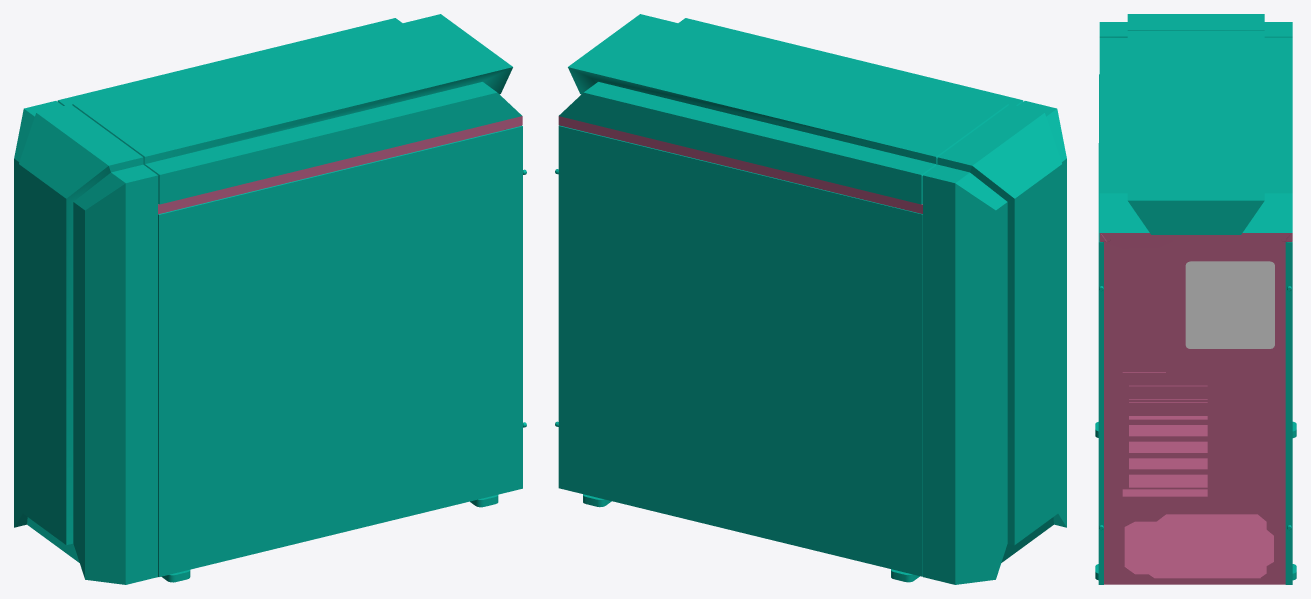
File: pc_case_e_cover.fbx
The picture shows the model from 3 angles, left to right: view 1: azimuth 30°, elevation 25°; view 2: azimuth 150°, elevation 25°; view 3: azimuth 270°, elevation 25°; orthographic projection. The views are drawn at different scales.
Visible parts, largest first — view 1: pc_case_e_cover, pc_case_e_body; view 2: pc_case_e_cover_door, pc_case_e_cover, pc_case_e_body; view 3: pc_case_e_body, pc_case_e_cover, pc_case_e_wire, pc_case_e_cover_door.
Boxes of the visible parts, box(x1,y1,x2,y2) form: pc_case_e_cover: box(14, 14, 526, 584); pc_case_e_body: box(158, 116, 522, 214); pc_case_e_cover_door: box(555, 125, 922, 576); pc_case_e_cover: box(559, 14, 1066, 584); pc_case_e_body: box(558, 116, 922, 213); pc_case_e_body: box(1099, 233, 1292, 584); pc_case_e_cover: box(1095, 14, 1296, 584); pc_case_e_wire: box(1185, 261, 1274, 348); pc_case_e_cover_door: box(1285, 241, 1292, 584).
Size of the model in its own units: 53.77 by 49.21 by 22.81.
